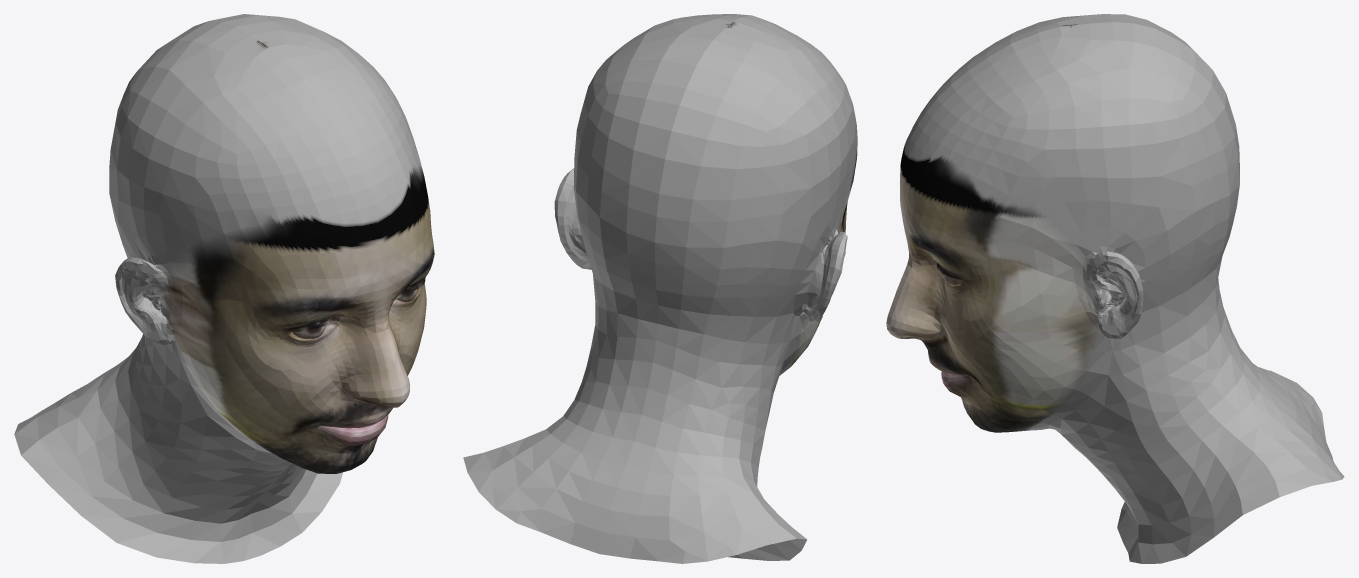
Rendered from ezgif-frame-027.obj.
The picture shows the model from 3 angles, left to right: view 1: azimuth 30°, elevation 25°; view 2: azimuth 150°, elevation 25°; view 3: azimuth 270°, elevation 25°; orthographic projection. The views are drawn at different scales.
Bounding box in the file's own units: 0.2078 × 0.3284 × 0.2643.
1 material, 1 textured.
